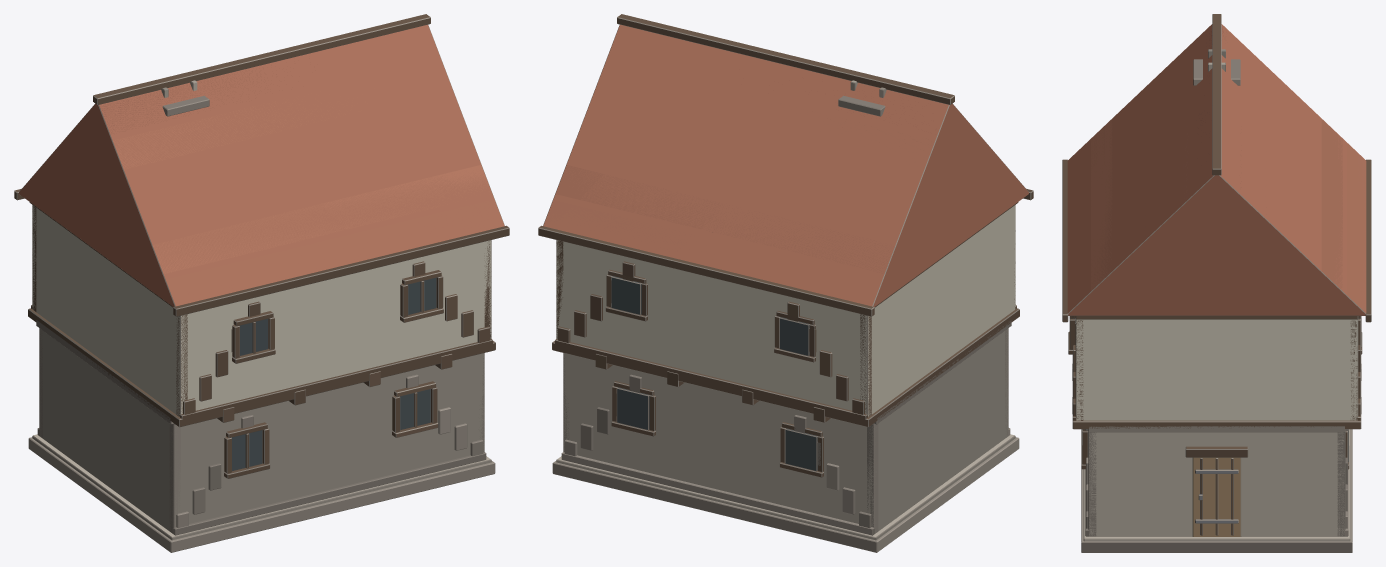
File: SM_Kit_casa_c.fbx
The picture shows the model from 3 angles, left to right: view 1: azimuth 30°, elevation 25°; view 2: azimuth 150°, elevation 25°; view 3: azimuth 270°, elevation 25°; orthographic projection. The views are drawn at different scales.
Parts seen in each view (by area): view 1: SM_Kit_casa_c; view 2: SM_Kit_casa_c; view 3: SM_Kit_casa_c.
Part boxes in pixels (x1,y1,x2,y2): SM_Kit_casa_c: [14, 14, 509, 552]; SM_Kit_casa_c: [538, 14, 1033, 552]; SM_Kit_casa_c: [1062, 14, 1371, 552].
Size of what is drawn, in the model's own units: 858 by 995 by 722.
